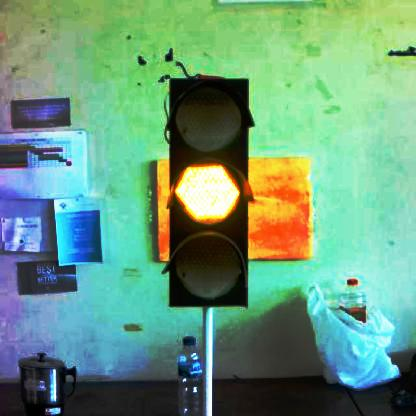Traffic Light -Yellow-: (162, 74, 252, 304)
